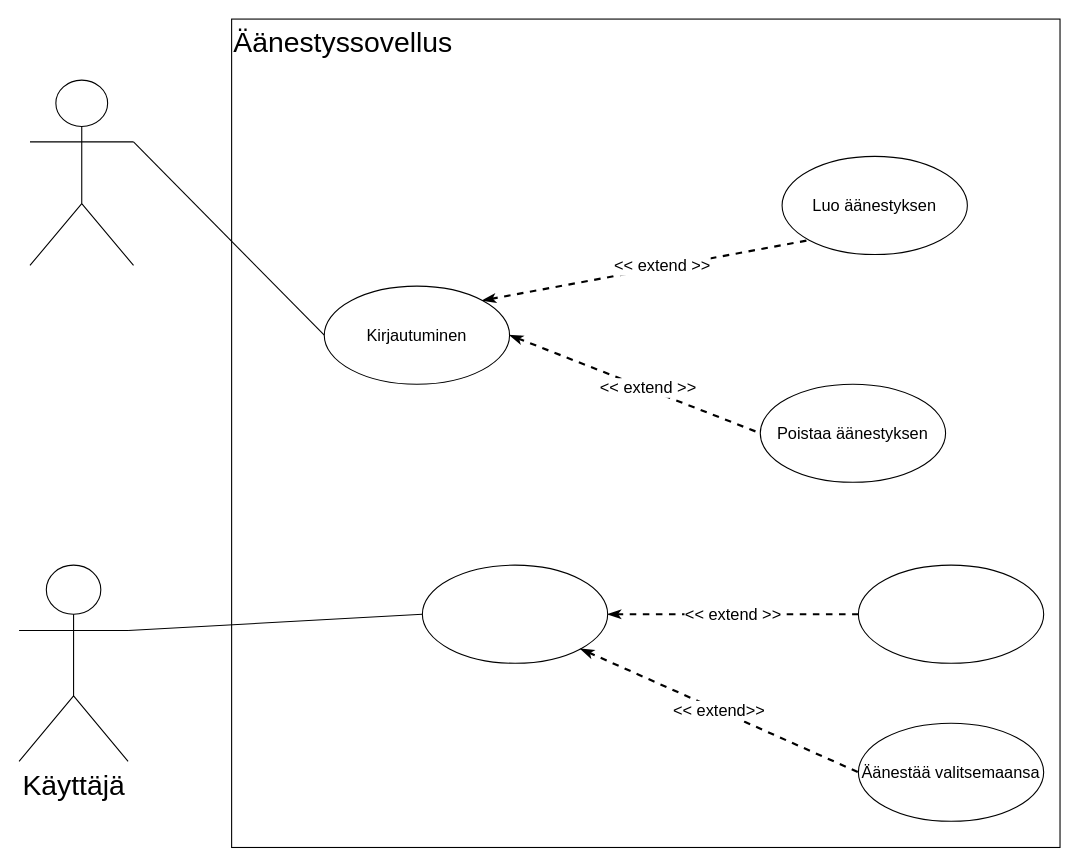
Some shapes in this 1079 by 867 pixel diagram are drawn without their labels. Here are the shapes that lost their labels. From the top down, the box of each, then its label:
(29, 79, 134, 265): Ylläpitäjä
(421, 564, 608, 663): Selaa äänestyksiä
(857, 564, 1044, 663): Katsoa äänestystilanteen
